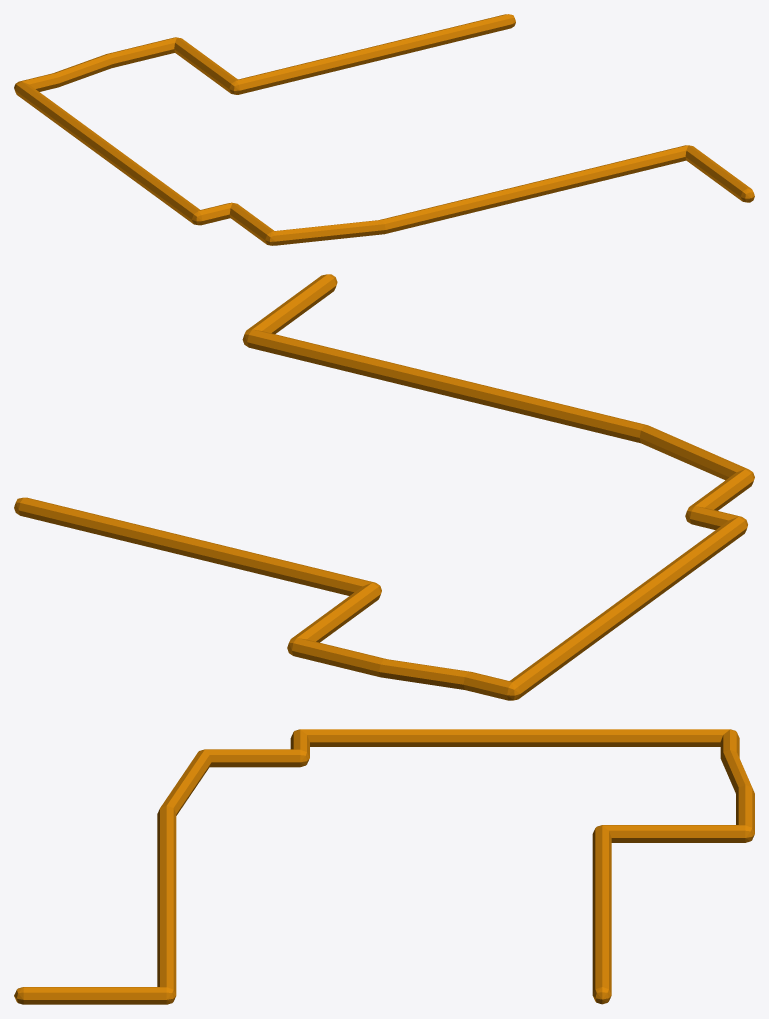
The picture shows the model from 3 angles, top to bottom: view 1: azimuth 30°, elevation 25°; view 2: azimuth 150°, elevation 25°; view 3: azimuth 270°, elevation 25°; orthographic projection. The views are drawn at different scales.
Size of the model in its own units: 658 by 20 by 776.
